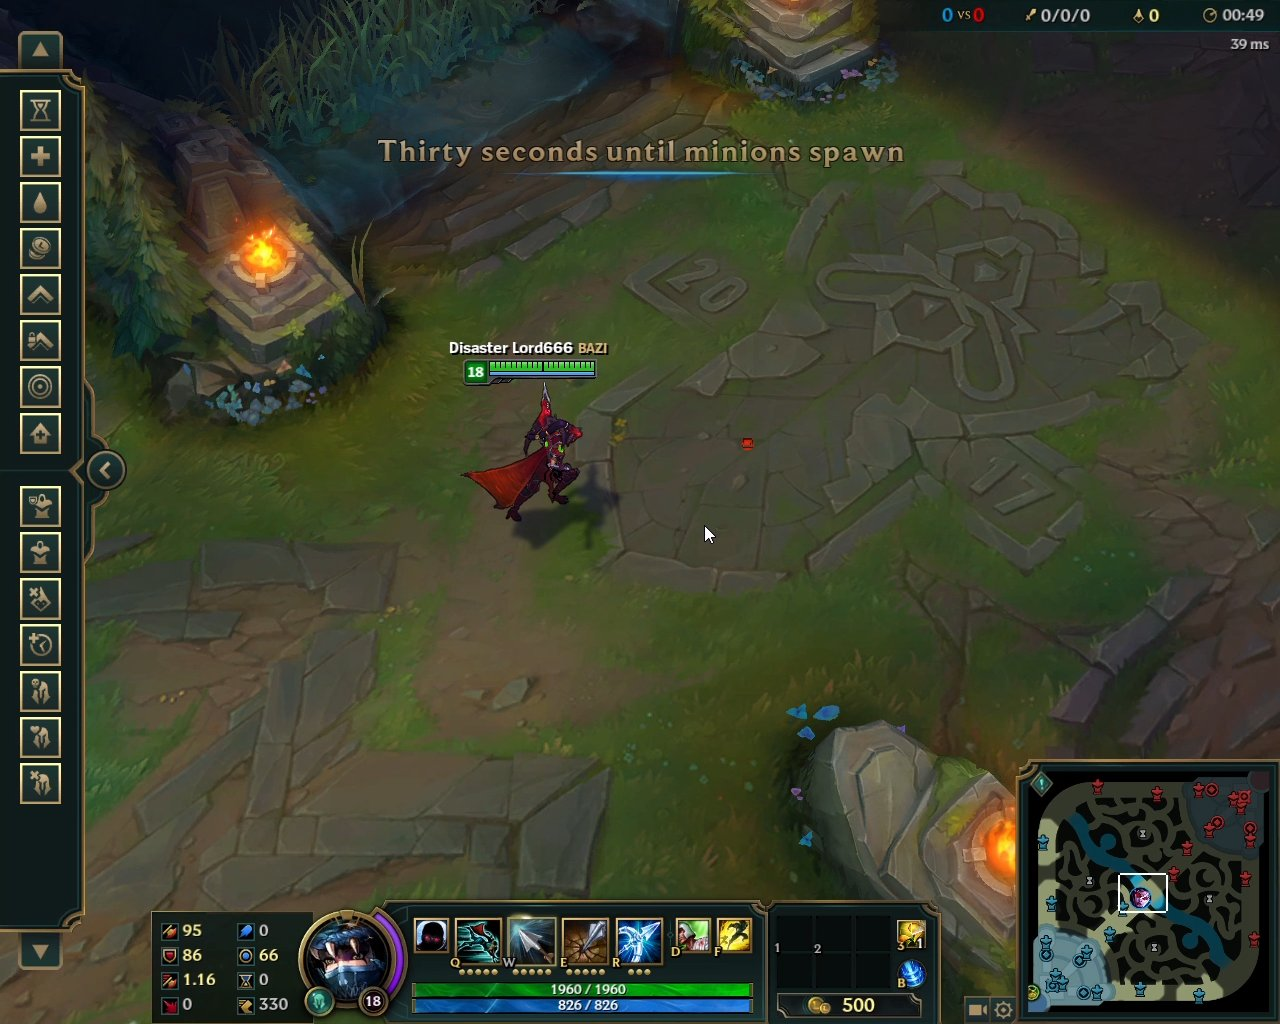Vayne: (456, 382, 595, 533)
